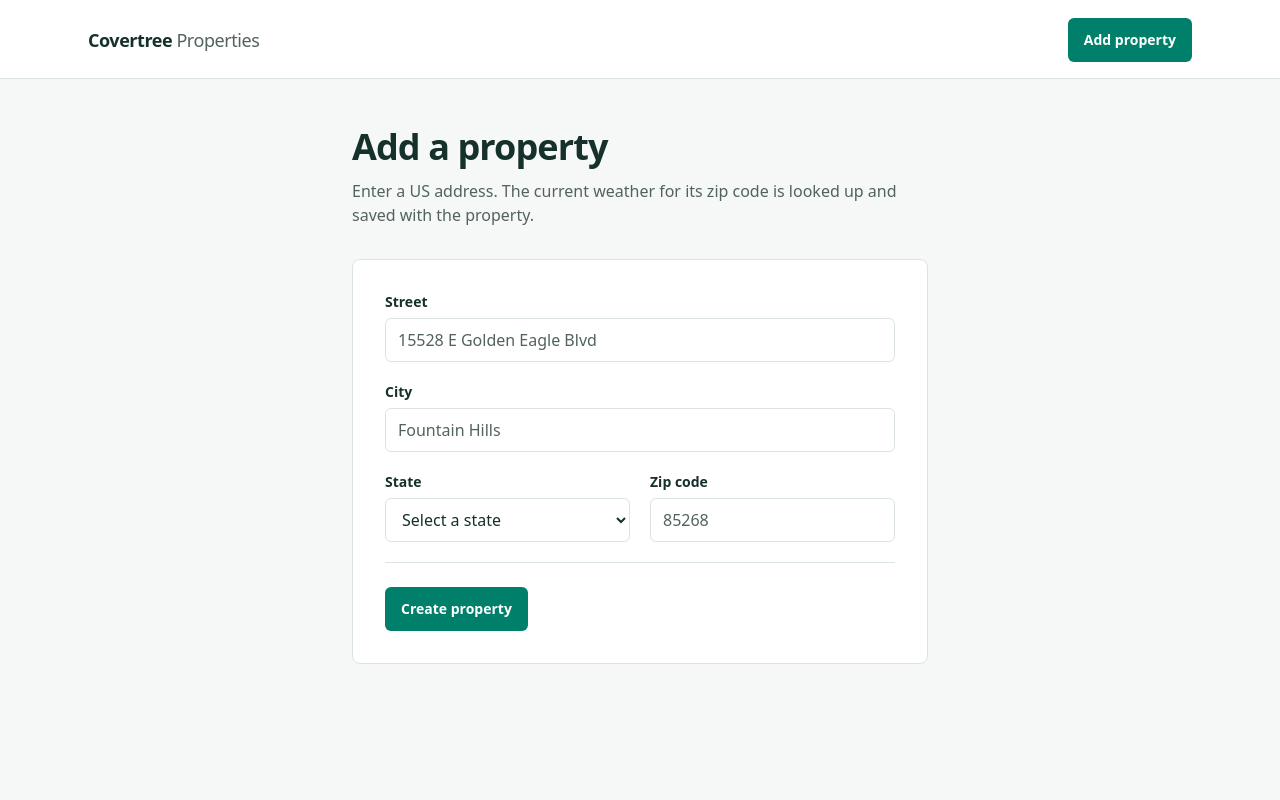
Test: CreatePropertyPage (AC-W.4) › shows inline messages for invalid fields and does not send the request
Step 1. Type "Phoenix1" into the field labelled "City" → {"x": 640, "y": 430}, box [385,408,895,452]
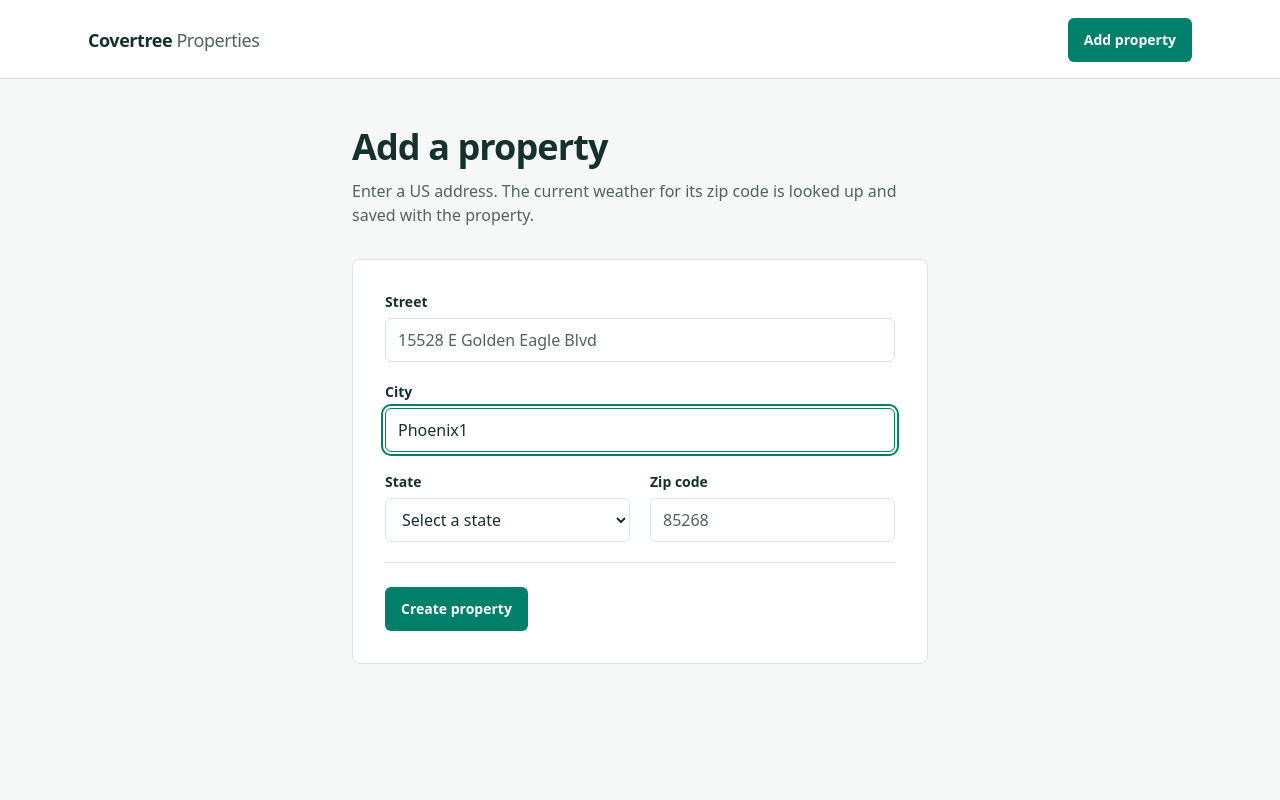
Step 2. Type "8526" into the field labelled "Zip code" → {"x": 772, "y": 520}, box [650,498,895,542]
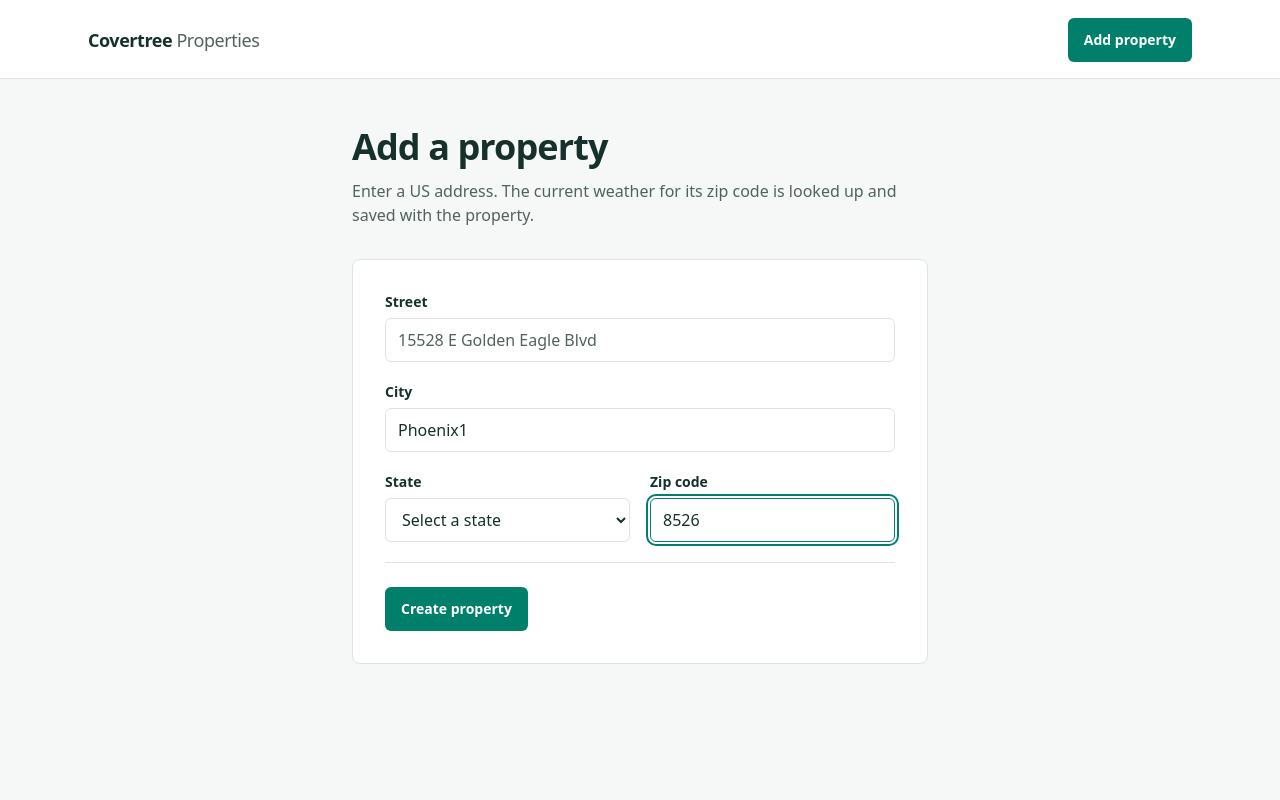
Step 3. Click the button "Create property" → {"x": 456, "y": 609}, box [385,587,528,631]
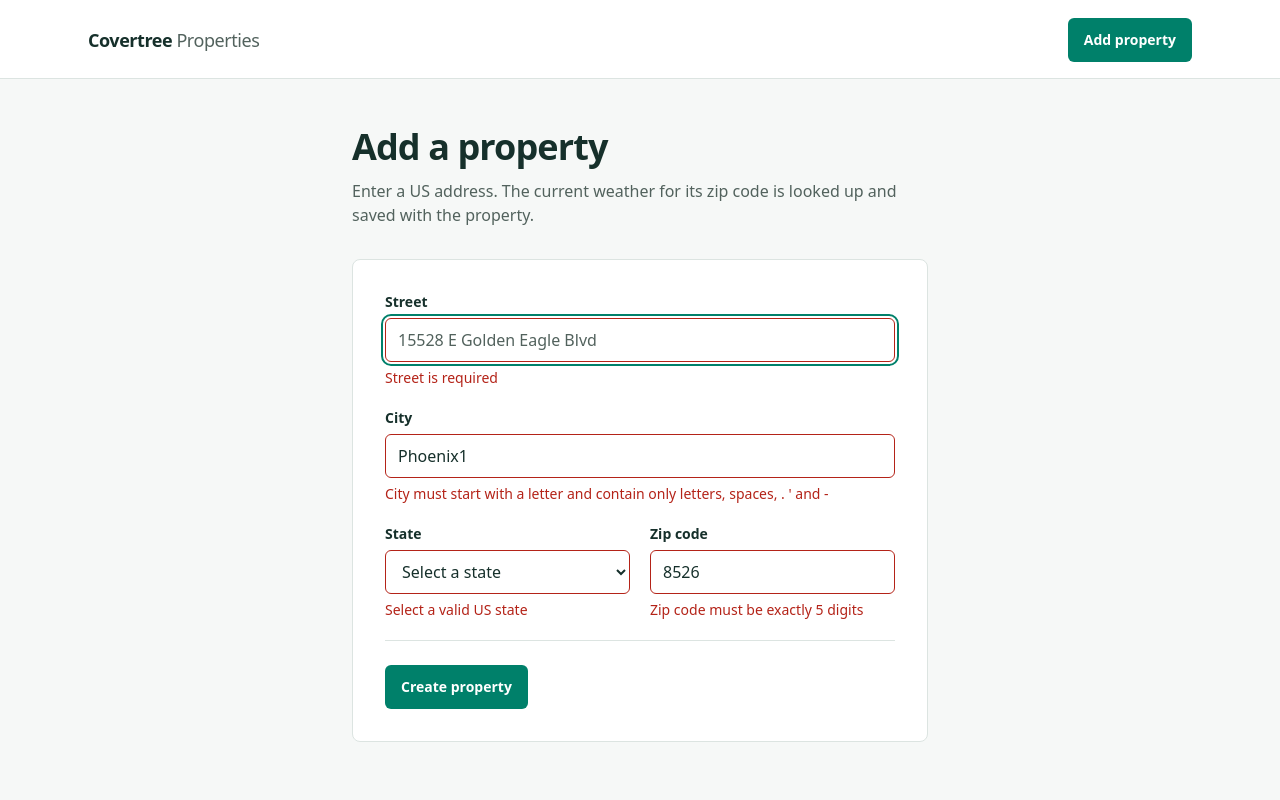
Check: the text "Street is required" is shown, box [385,368,498,387]
Check: the text "City must start with a letter and contain only letters, spaces, . ' and -" is shown, box [385,484,895,504]
Check: the text "Select a valid US state" is shown, box [385,600,528,619]
